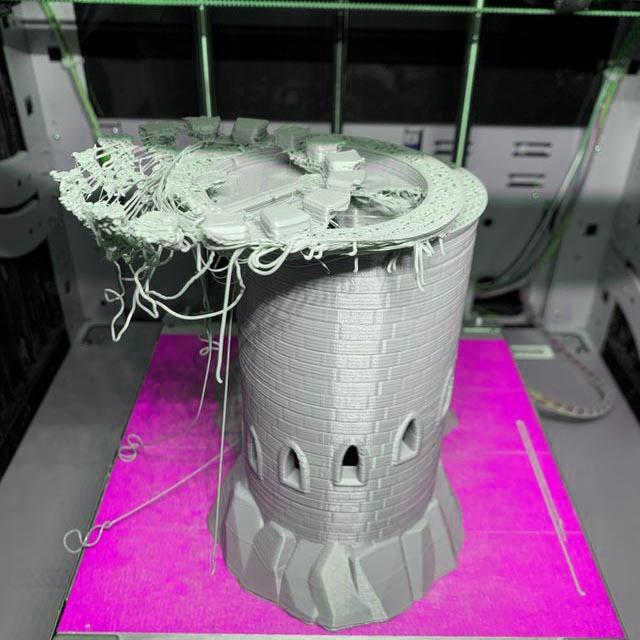Spaghetti: (91, 228, 292, 346)
